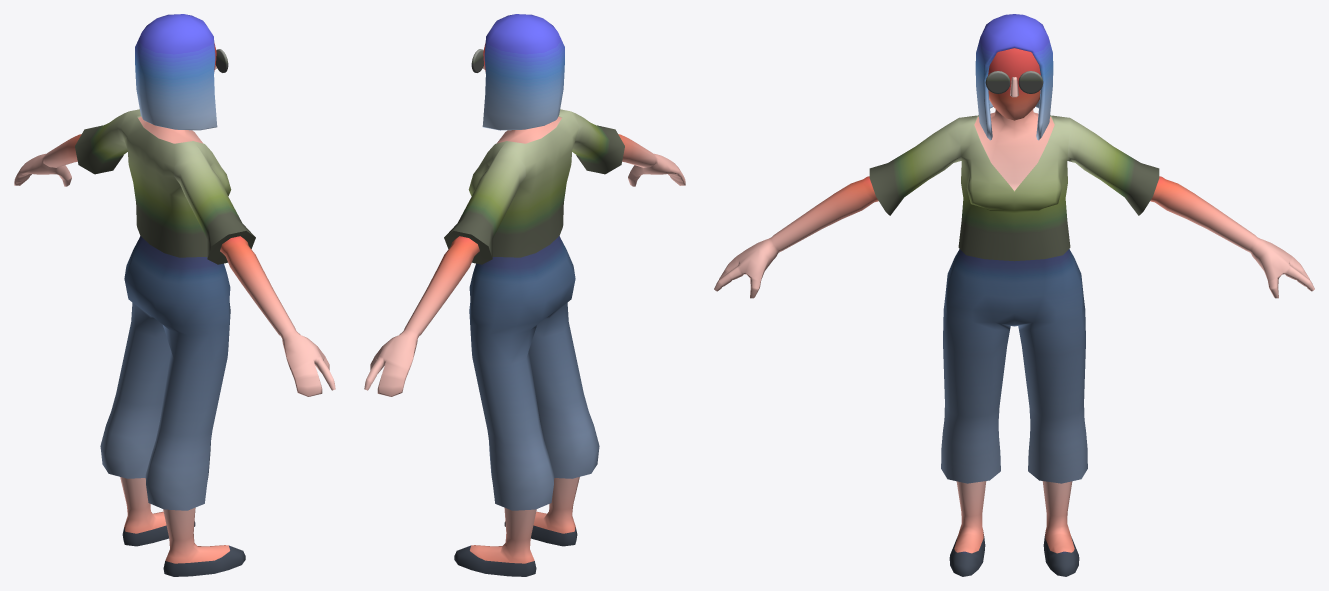
Rendered from Woman.glb.
3 views of the same model, side by side, from view 1: azimuth 30°, elevation 25°; view 2: azimuth 150°, elevation 25°; view 3: azimuth 270°, elevation 25° (orthographic).
Parts seen in each view (by area): view 1: char53x2; view 2: char53x2; view 3: char53x2.
Boxes of the visible parts, x1,y1,x2,y2 form: char53x2: (14,14,335,576); char53x2: (364,14,685,576); char53x2: (714,14,1314,576).
Bounding box in the file's own units: 0.7576 × 4.12 × 4.17.
Materials: 1 (1 with a texture image).
